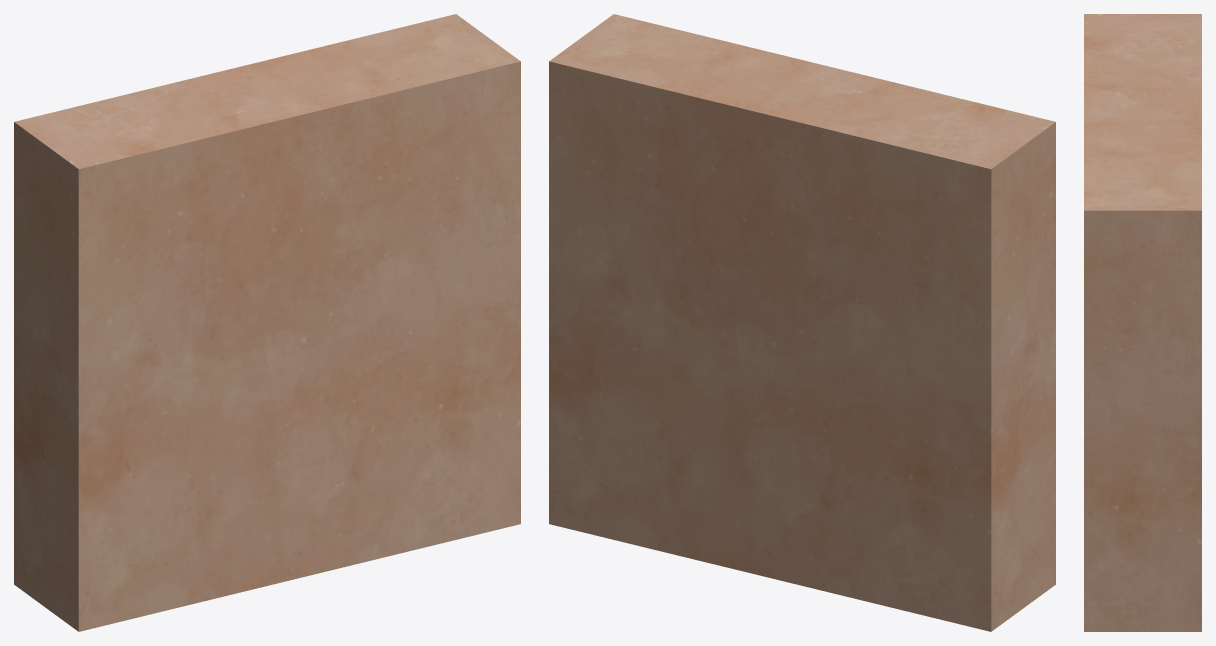
3 views of the same model, side by side, from view 1: azimuth 30°, elevation 25°; view 2: azimuth 150°, elevation 25°; view 3: azimuth 270°, elevation 25° (orthographic). The views are drawn at different scales.
Visible parts, largest first — view 1: SM_BB_T4_Wall_Med_03_LOD0; view 2: SM_BB_T4_Wall_Med_03_LOD0; view 3: SM_BB_T4_Wall_Med_03_LOD0.
Part boxes in pixels (x1=…): SM_BB_T4_Wall_Med_03_LOD0: x1=14, y1=14, x2=520, y2=631; SM_BB_T4_Wall_Med_03_LOD0: x1=549, y1=14, x2=1055, y2=631; SM_BB_T4_Wall_Med_03_LOD0: x1=1084, y1=14, x2=1201, y2=631.
Bounding box in the file's own units: 1.5 × 1.5 × 0.3805.
Materials: 1 (1 with a texture image).
